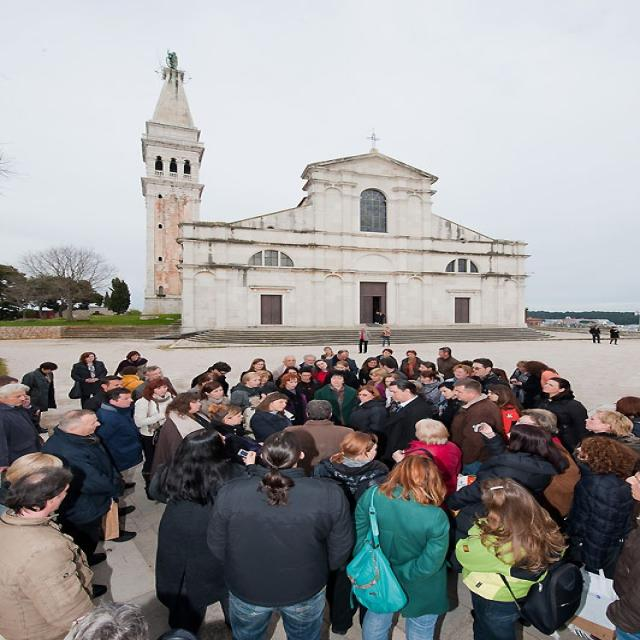body: (201, 428, 356, 639), (452, 473, 588, 639), (146, 427, 250, 640), (440, 421, 573, 574), (350, 453, 455, 639), (311, 429, 394, 636), (39, 408, 128, 568), (559, 436, 639, 579), (506, 407, 584, 521), (391, 418, 464, 514), (92, 386, 144, 513), (53, 597, 206, 639), (602, 470, 640, 639), (279, 398, 360, 476), (450, 377, 505, 487), (132, 378, 178, 502), (153, 391, 214, 475), (380, 378, 433, 472), (0, 451, 65, 518), (536, 376, 590, 456), (0, 452, 65, 517), (0, 382, 46, 469), (568, 407, 640, 462), (311, 369, 364, 428), (19, 360, 60, 434), (68, 351, 112, 412), (248, 392, 295, 446), (346, 384, 390, 435), (485, 383, 527, 434), (130, 364, 178, 406), (433, 379, 468, 434), (276, 372, 309, 426), (523, 360, 563, 402), (81, 374, 125, 412), (509, 360, 542, 410), (190, 360, 233, 398), (467, 358, 511, 394), (228, 371, 266, 412), (320, 359, 362, 392), (196, 380, 233, 417), (416, 369, 444, 412), (113, 351, 150, 382), (613, 395, 639, 439), (434, 346, 464, 382), (294, 366, 322, 404), (324, 348, 359, 378), (377, 373, 403, 409), (271, 353, 303, 382), (118, 364, 148, 394), (238, 358, 274, 383), (364, 366, 391, 398), (184, 372, 223, 394), (377, 356, 409, 382), (398, 350, 425, 380), (356, 356, 381, 388), (255, 369, 282, 398), (414, 360, 445, 384), (308, 358, 334, 386), (372, 348, 399, 370), (273, 366, 301, 386), (355, 326, 370, 354), (297, 354, 318, 371), (588, 325, 604, 345), (319, 346, 337, 362), (379, 326, 392, 347), (608, 325, 620, 345), (373, 310, 386, 325), (452, 358, 473, 367)
